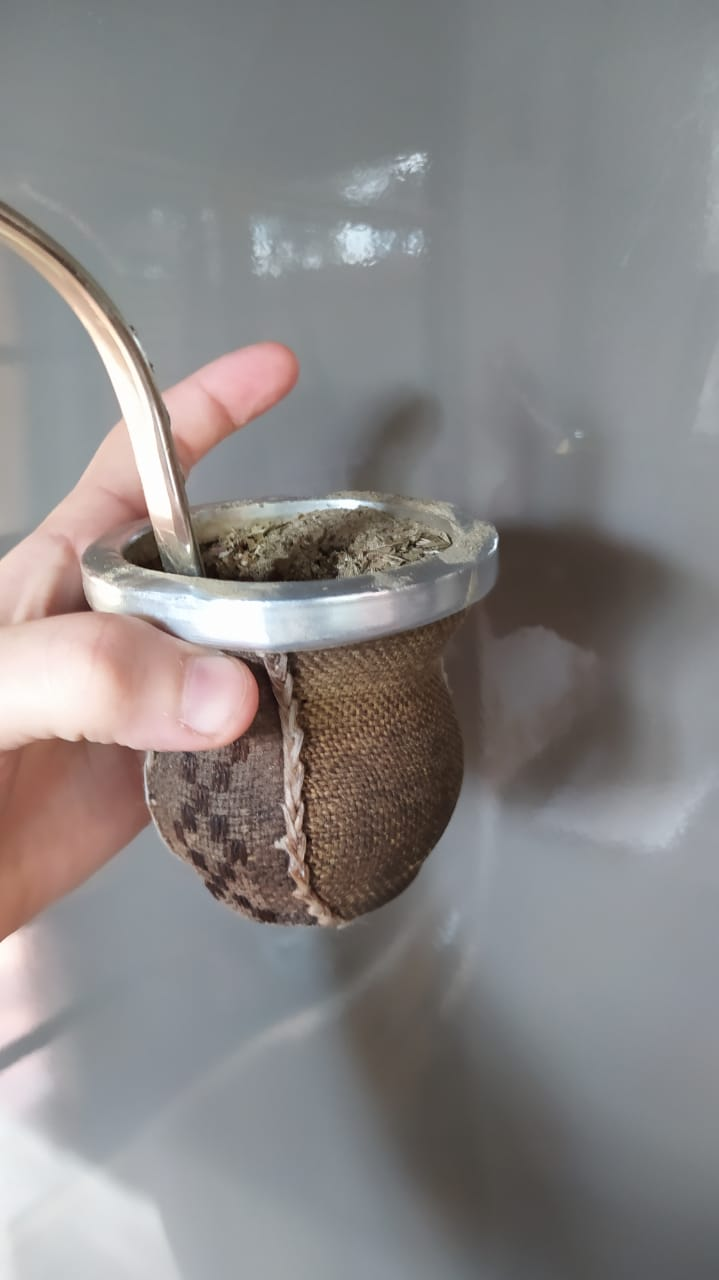madera: (1, 187, 508, 938)
mate: (1, 185, 508, 936)
